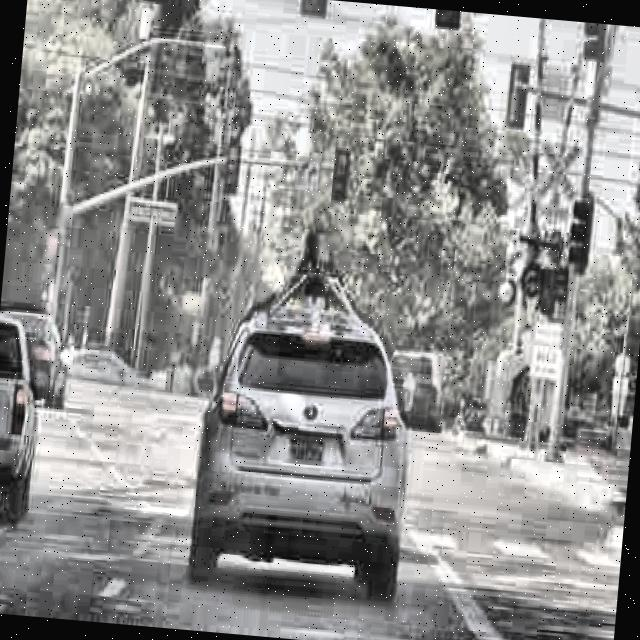license_plate: (286, 434, 325, 468)
